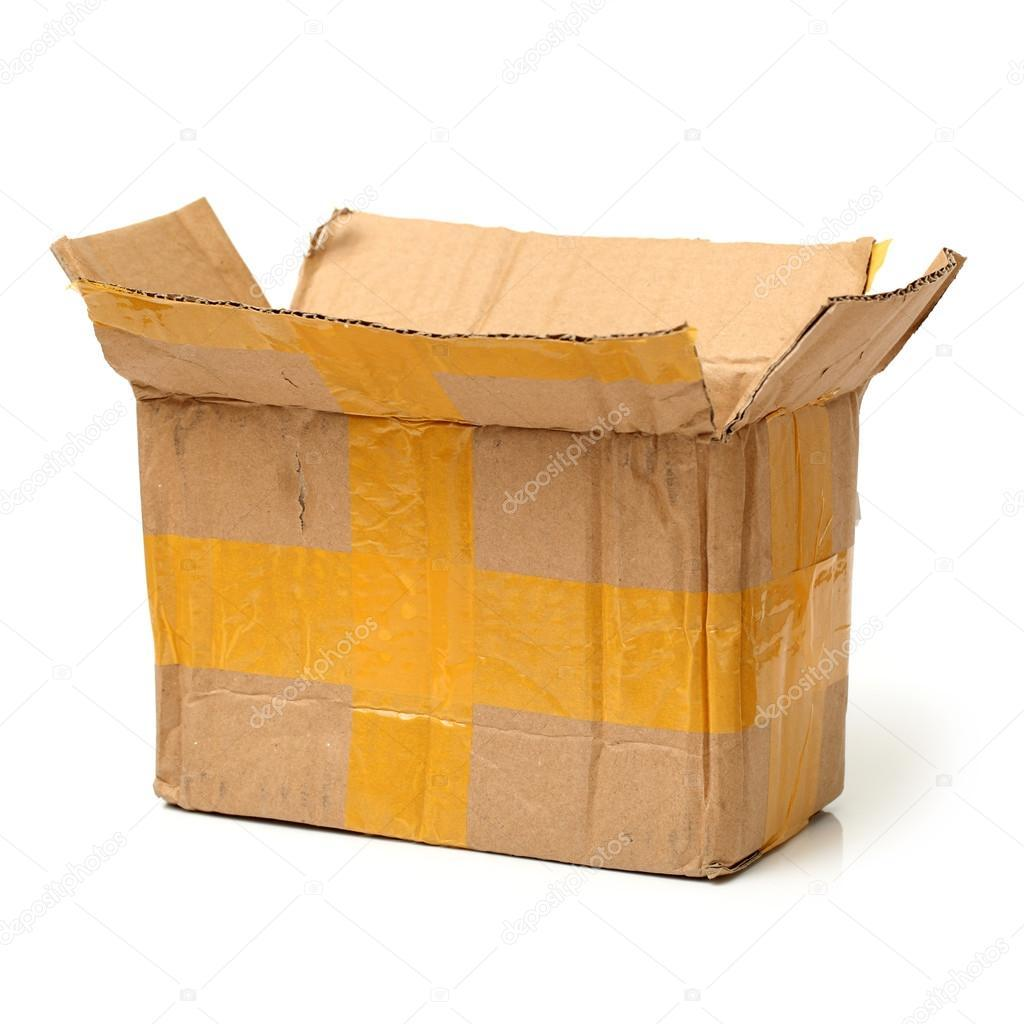plastic: (22, 193, 962, 889)
